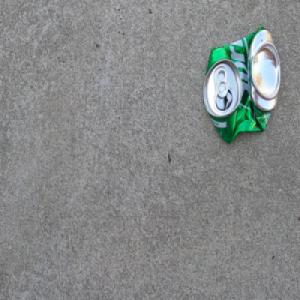SodaCan: (202, 24, 281, 144)
